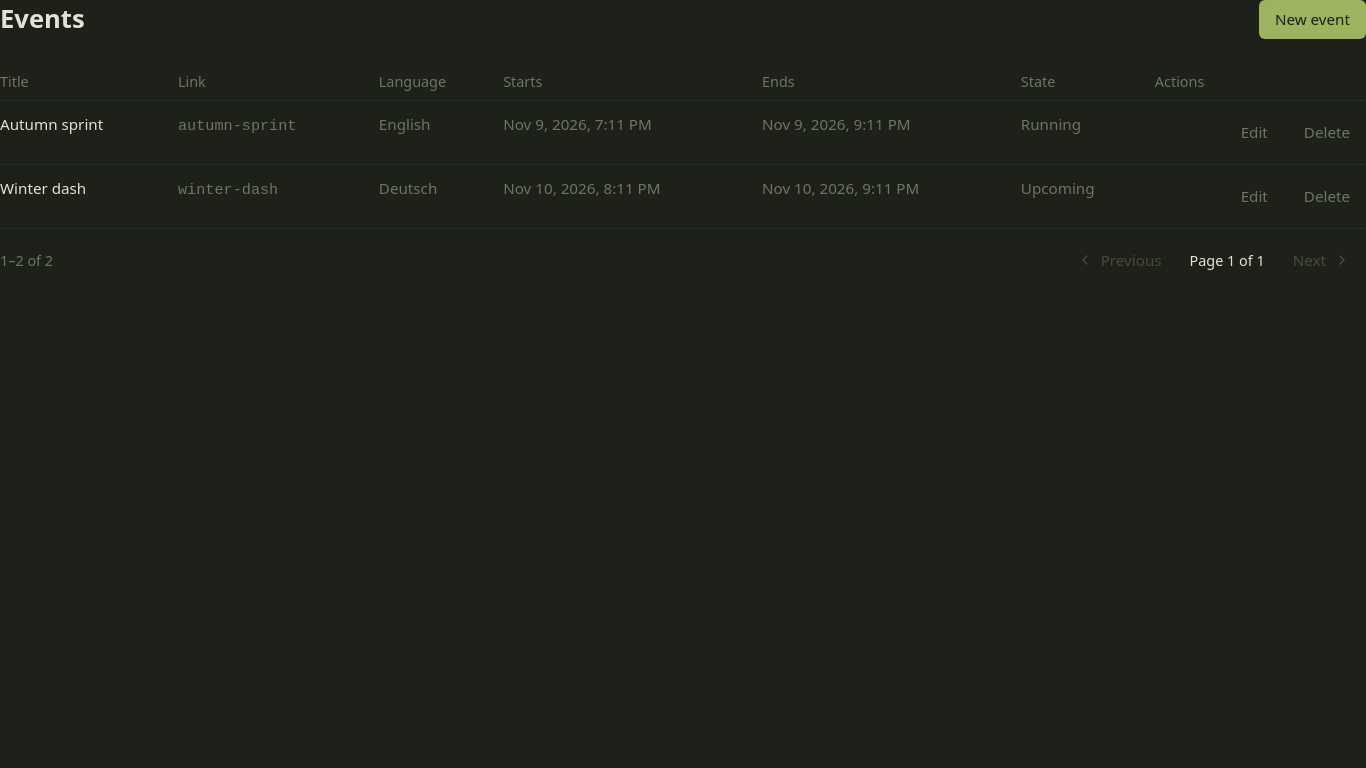
admin events modal › keeps every field editable for an event that has not started
Expected: the text "Winter dash" is shown, [0,178,86,198]
Click the button "Edit" in the row of "Winter dash".
click(1254, 197)  # box [1225,177,1284,216]
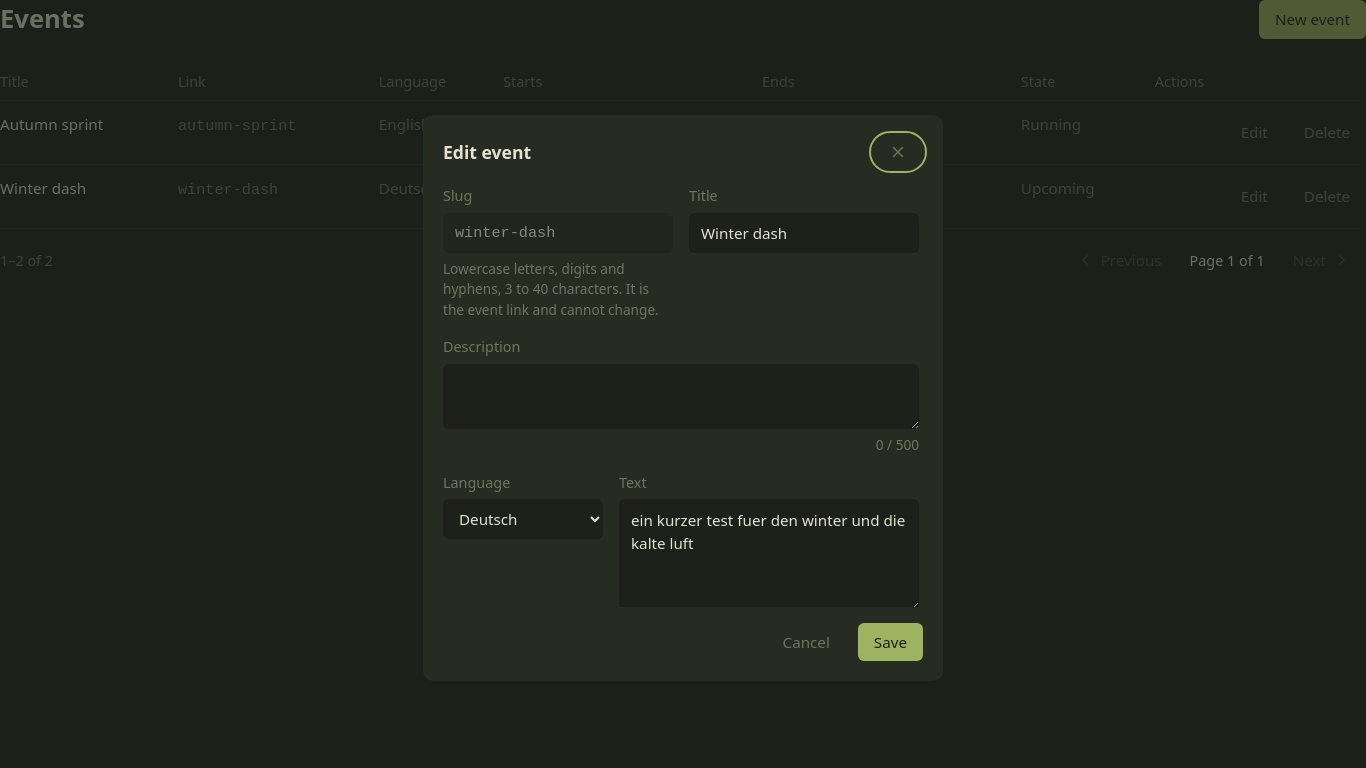
Result: the dropdown labelled "Language" is enabled at [443,499,603,539]
Result: the text box labelled "Text" is enabled at [619,499,919,606]
Result: the field labelled "Slug" is disabled at [443,213,673,253]
